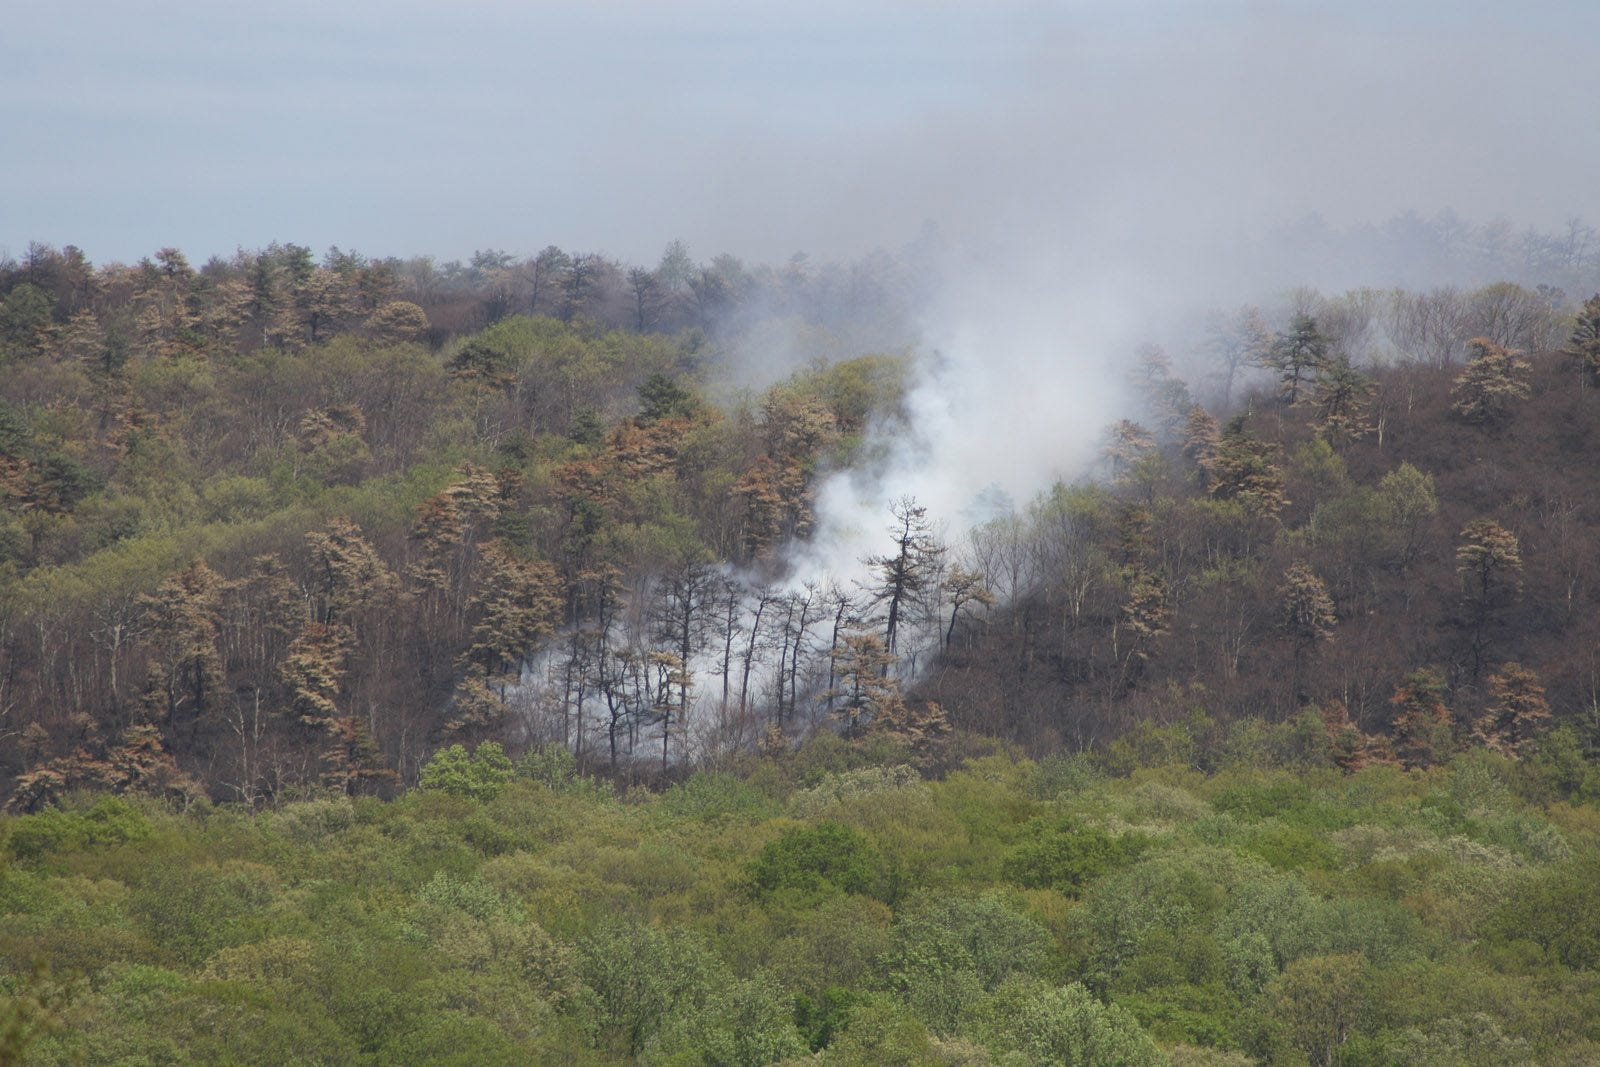fire: (515, 417, 1121, 770)
